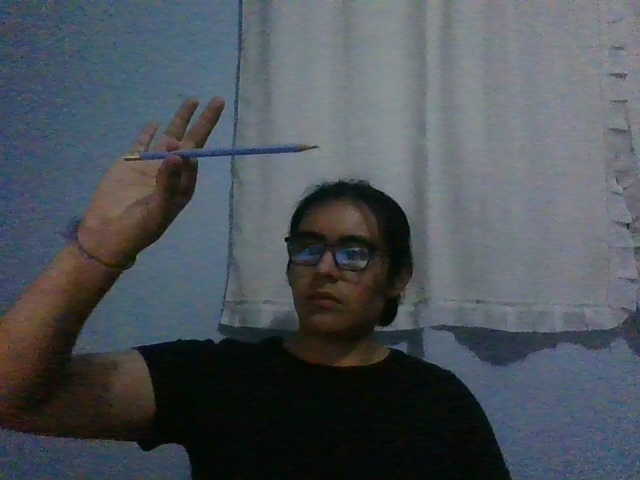lapiz: (122, 144, 320, 162)
